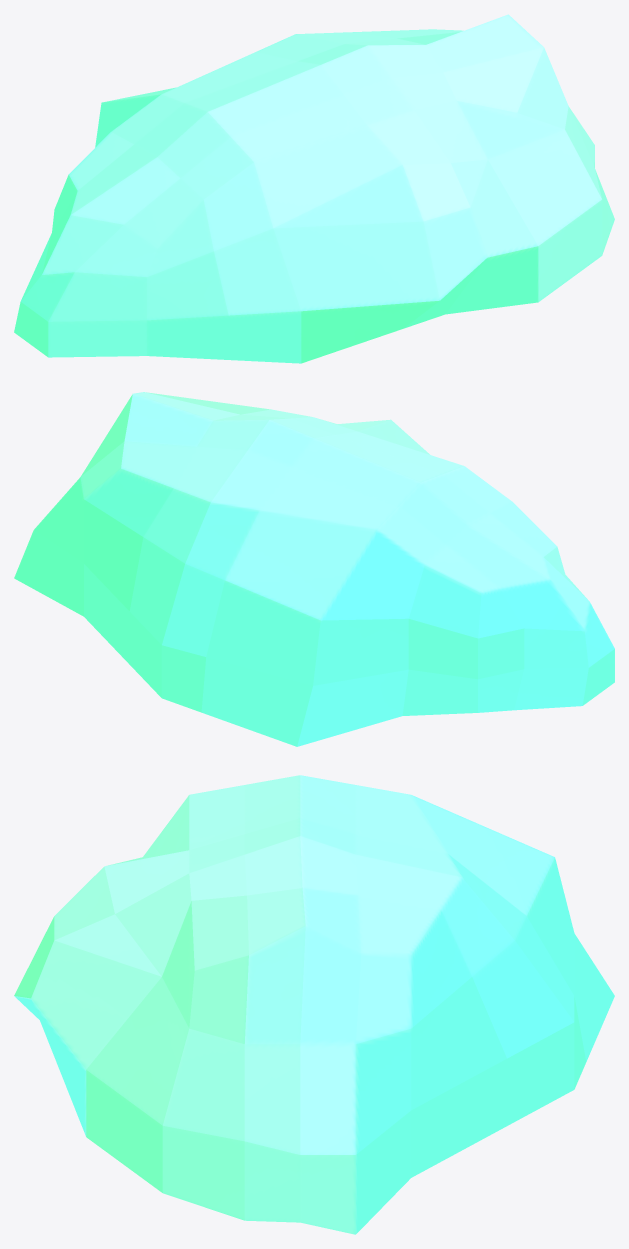
Rendered from OreRock04_Model (1).fbx.
The picture shows the model from 3 angles, top to bottom: view 1: azimuth 30°, elevation 25°; view 2: azimuth 150°, elevation 25°; view 3: azimuth 270°, elevation 25°; orthographic projection. The views are drawn at different scales.
Visible parts, largest first — view 1: pCube19; view 2: pCube19; view 3: pCube19.
Part boxes in pixels (x1,y1,x2,y2): pCube19: (14,14,614,363); pCube19: (14,392,614,746); pCube19: (14,775,614,1234).
Size of the model in its own units: 3.68 by 1.26 by 2.71.
